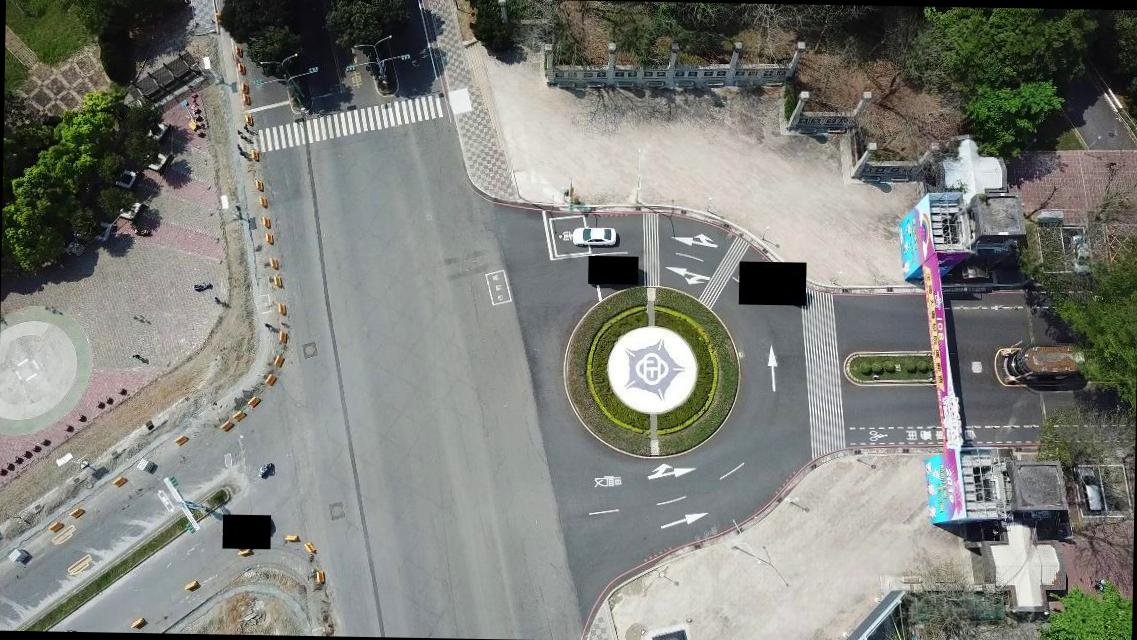vehicle: (1076, 467, 1104, 514), (572, 225, 616, 247), (1070, 234, 1092, 274)
